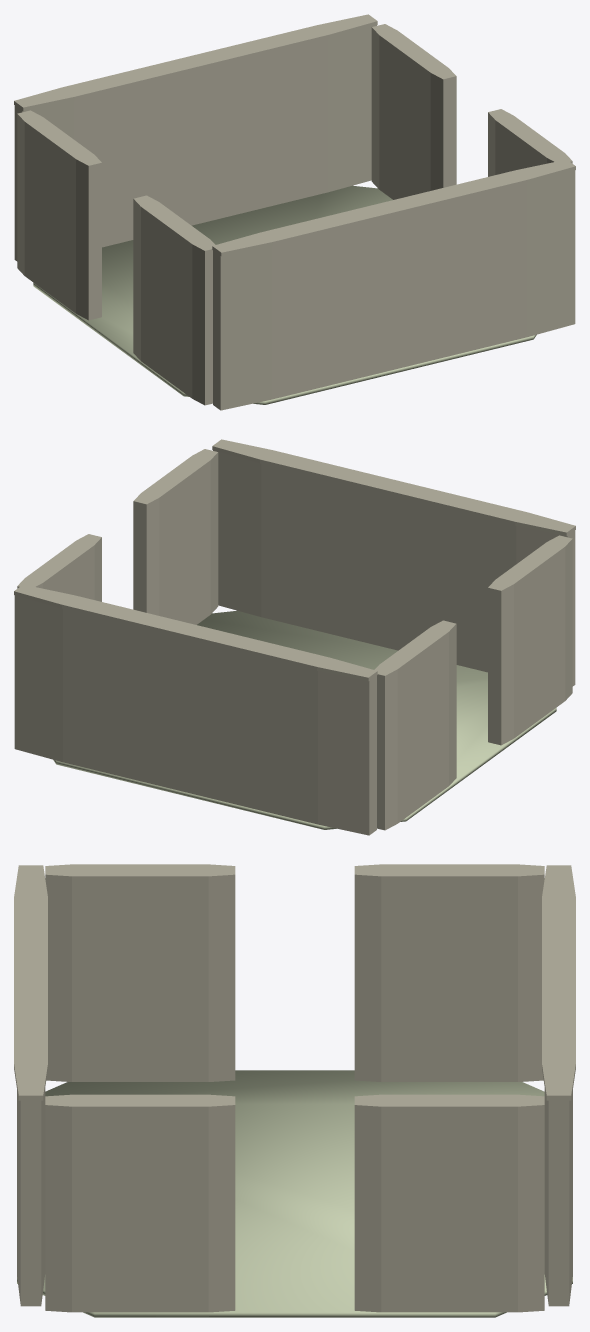
Rendered from R2_Shell.fbx.
3 views of the same model, one above another, from view 1: azimuth 30°, elevation 25°; view 2: azimuth 150°, elevation 25°; view 3: azimuth 270°, elevation 25° (orthographic). The views are drawn at different scales.
Parts seen in each view (by area): view 1: R2_Shell; view 2: R2_Shell; view 3: R2_Shell.
Boxes of the visible parts, x1,y1,x2,y2 form: R2_Shell: [14, 14, 575, 410]; R2_Shell: [14, 439, 575, 835]; R2_Shell: [14, 864, 575, 1317].
Size of the model in its own units: 40.4 by 16.8 by 39.6.
